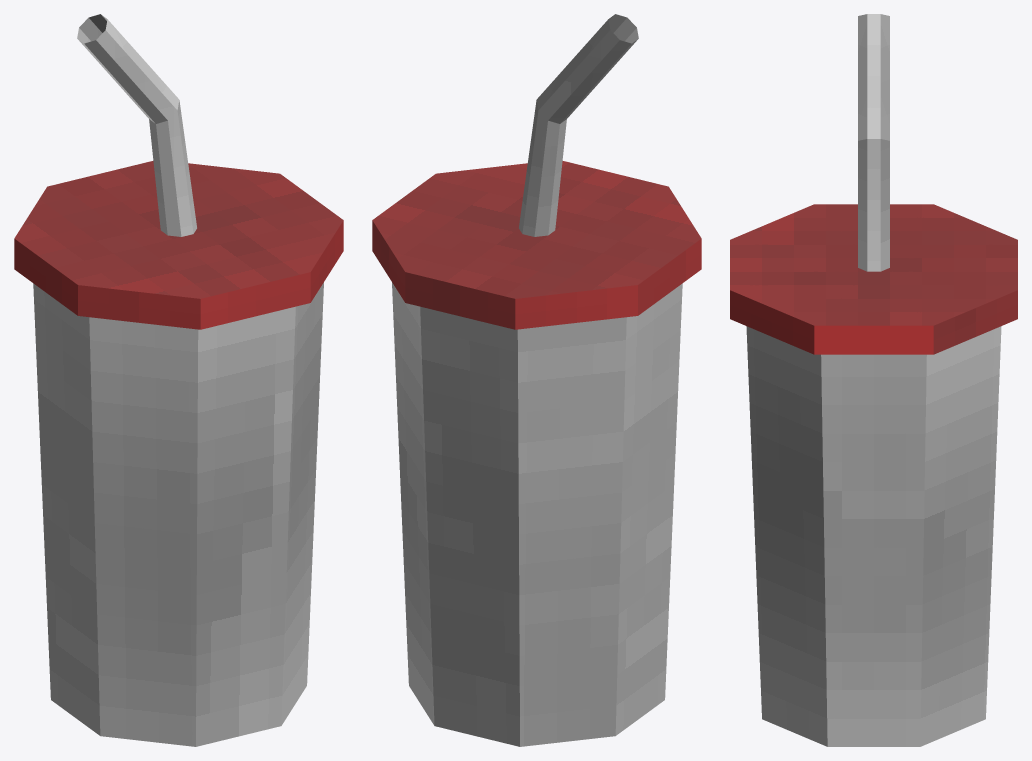
Rendered from sodaCup.gltf.
3 renders of one model, left to right at view 1: azimuth 30°, elevation 25°; view 2: azimuth 150°, elevation 25°; view 3: azimuth 270°, elevation 25°, orthographic. The views are drawn at different scales.
Visible parts, largest first — view 1: cup; view 2: cup; view 3: cup.
Part boxes in pixels (<box>): cup: <box>14,14,343,746</box>; cup: <box>372,14,701,746</box>; cup: <box>730,14,1017,746</box>.
Size of the model in its own units: 0.2812 by 0.7024 by 0.2812.
1 material, 1 textured.
